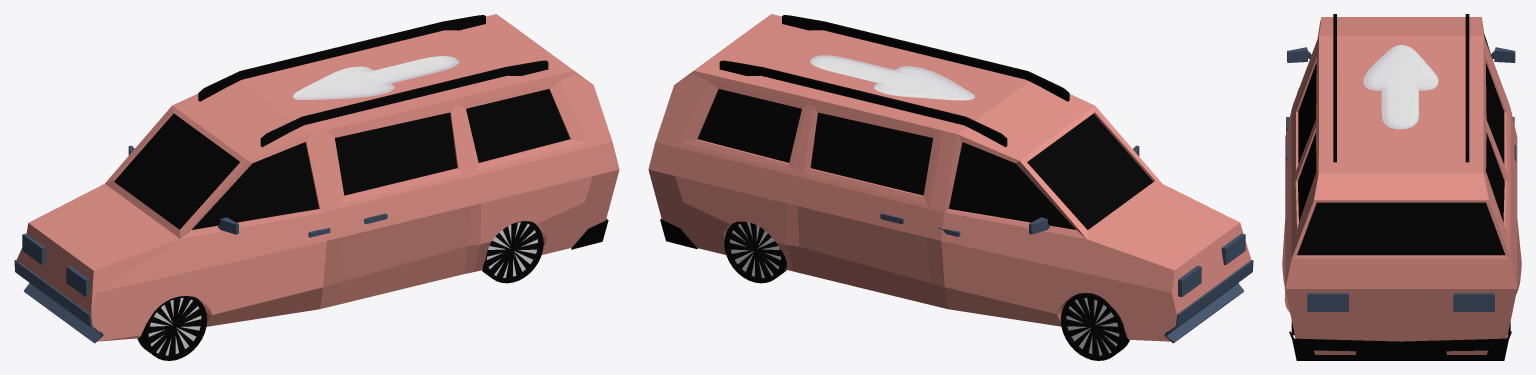
Rendered from car6.fbx.
3 renders of one model, left to right at view 1: azimuth 30°, elevation 25°; view 2: azimuth 150°, elevation 25°; view 3: azimuth 270°, elevation 25°, orthographic. The views are drawn at different scales.
Visible parts, largest first — view 1: vehiccle, Cube.003, Plane, Cylinder.001, Cylinder, vehiccle.001, Cube.001, duoi xe; view 2: vehiccle, Cube.003, Plane, Cylinder.001, Cylinder, vehiccle.001, Cube.001, duoi xe; view 3: vehiccle, duoi xe, Plane, Cube.004, Cube.003, Cube.
Boxes of the visible parts, bbox=[...] form: vehiccle: bbox=[16, 14, 619, 341]; Cube.003: bbox=[198, 15, 548, 147]; Plane: bbox=[292, 56, 458, 99]; Cylinder.001: bbox=[137, 296, 207, 360]; Cylinder: bbox=[482, 221, 543, 283]; vehiccle.001: bbox=[14, 260, 103, 343]; Cube.001: bbox=[22, 233, 89, 297]; duoi xe: bbox=[571, 219, 608, 249]; vehiccle: bbox=[648, 14, 1251, 341]; Cube.003: bbox=[719, 15, 1069, 147]; Plane: bbox=[810, 55, 974, 100]; Cylinder.001: bbox=[1060, 293, 1129, 360]; Cylinder: bbox=[724, 221, 786, 283]; vehiccle.001: bbox=[1164, 260, 1253, 343]; Cube.001: bbox=[1178, 233, 1245, 297]; duoi xe: bbox=[660, 219, 697, 248]; vehiccle: bbox=[1282, 17, 1521, 341]; duoi xe: bbox=[1289, 331, 1511, 360]; Plane: bbox=[1363, 45, 1438, 129]; Cube.004: bbox=[1307, 293, 1494, 311]; Cube.003: bbox=[1333, 14, 1469, 162]; Cube: bbox=[1287, 47, 1515, 62].
Size of the model in its own units: 632 by 232 by 239.
Materials: 5 (1 with a texture image).
